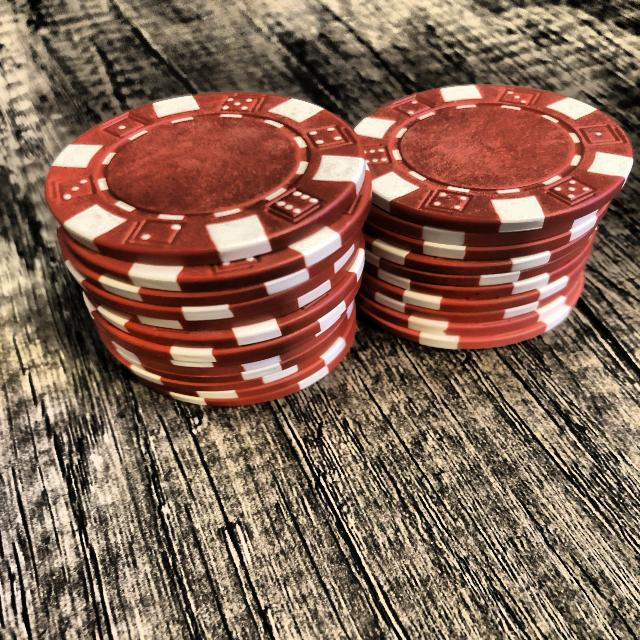Chip: (42, 90, 374, 408), (352, 79, 636, 354)
